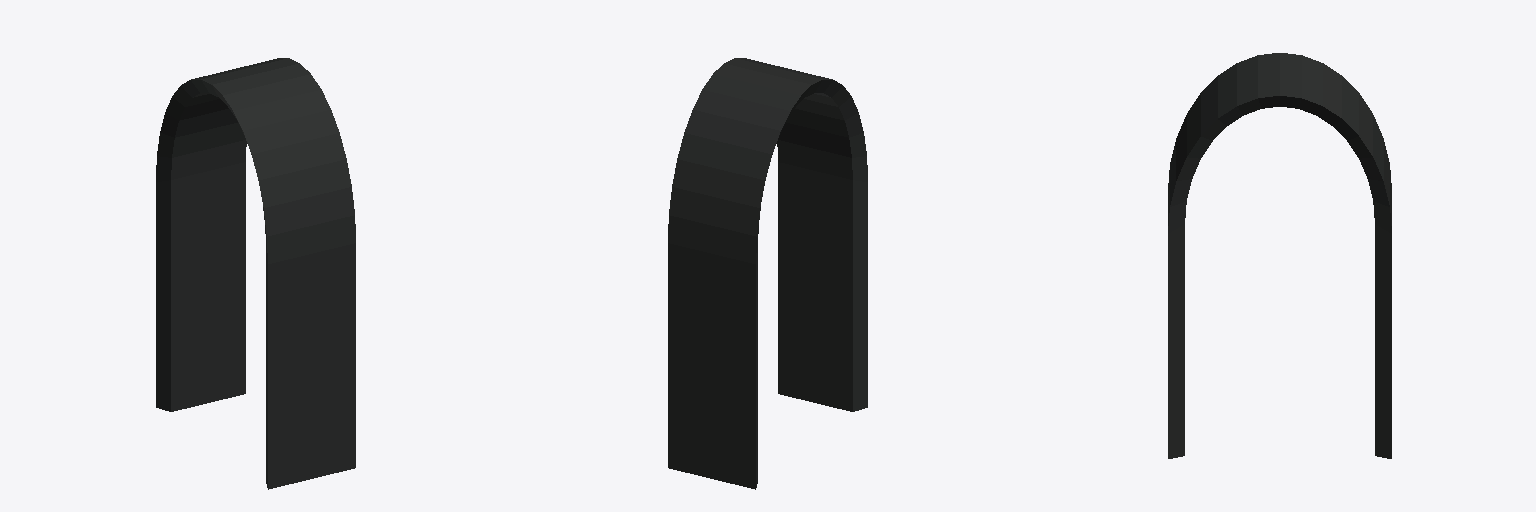
The picture shows the model from 3 angles: view 1: azimuth 30°, elevation 25°; view 2: azimuth 150°, elevation 25°; view 3: azimuth 270°, elevation 25°; orthographic projection.
Parts seen in each view (by area): view 1: Keret_Cylinder; view 2: Keret_Cylinder; view 3: Keret_Cylinder.
Part boxes in pixels (x1,y1,x2,y2): Keret_Cylinder: (156, 58, 355, 489); Keret_Cylinder: (668, 58, 867, 489); Keret_Cylinder: (1168, 53, 1391, 458).
Size of the model in its own units: 1.18 by 4.65 by 2.6.
Materials: 1 (1 with a texture image).